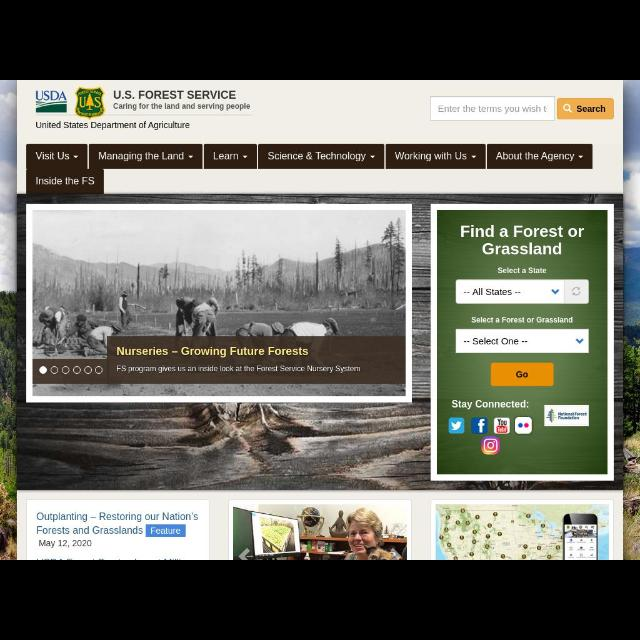button: (566, 280, 588, 302)
icon: (571, 286, 581, 296), (562, 105, 572, 114), (574, 338, 584, 344), (242, 154, 250, 160), (550, 288, 558, 294), (470, 154, 478, 158), (188, 154, 194, 158), (578, 154, 584, 158), (74, 154, 78, 158), (370, 154, 374, 158)
image: (33, 212, 407, 396), (232, 505, 406, 559), (437, 505, 607, 559), (75, 87, 105, 121), (544, 406, 590, 426), (36, 90, 66, 114), (494, 418, 510, 434), (516, 416, 532, 432), (483, 438, 499, 454), (450, 418, 464, 432), (474, 418, 486, 432)
input: (432, 97, 554, 121)
pageindicator: (38, 366, 102, 376)
spinner: (260, 144, 384, 168), (456, 330, 586, 352), (387, 142, 485, 168), (90, 144, 202, 166), (490, 144, 592, 168), (456, 280, 564, 302), (28, 144, 86, 168), (206, 144, 256, 168)
text: (461, 225, 584, 258), (36, 512, 200, 536), (115, 366, 362, 374), (116, 347, 310, 357), (112, 90, 238, 100), (36, 122, 192, 130), (267, 150, 367, 162), (115, 102, 252, 110), (450, 399, 532, 411), (496, 150, 574, 162), (438, 106, 550, 114), (394, 150, 466, 162), (99, 151, 185, 161), (36, 176, 94, 186), (39, 538, 95, 548), (462, 339, 530, 347), (462, 290, 522, 298), (498, 266, 546, 274), (35, 151, 69, 161), (211, 150, 239, 162), (576, 106, 606, 112), (516, 372, 528, 378)
textbutton: (492, 364, 552, 386), (558, 98, 614, 120)
